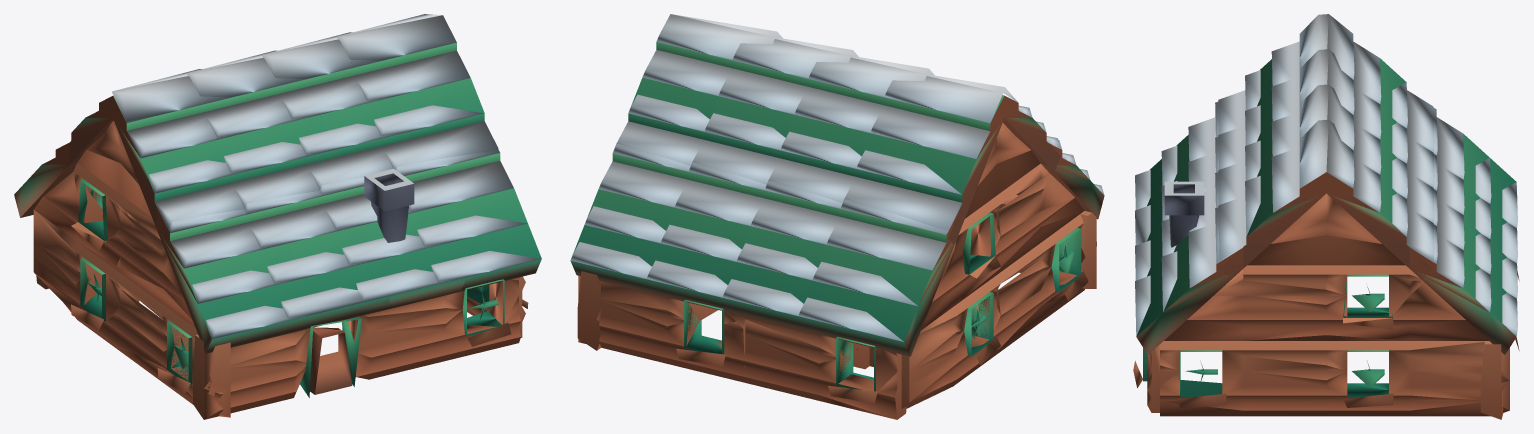
Rendered from sw_cabin.glb.
The picture shows the model from 3 angles, left to right: view 1: azimuth 30°, elevation 25°; view 2: azimuth 150°, elevation 25°; view 3: azimuth 270°, elevation 25°; orthographic projection. The views are drawn at different scales.
Visible parts, largest first — view 1: sw_cabin; view 2: sw_cabin; view 3: sw_cabin.
Part boxes in pixels (bbox=[...]): sw_cabin: bbox=[14, 14, 541, 419]; sw_cabin: bbox=[570, 14, 1104, 419]; sw_cabin: bbox=[1133, 14, 1519, 419].
Bounding box in the file's own units: 10.2 × 7.34 × 10.2.
